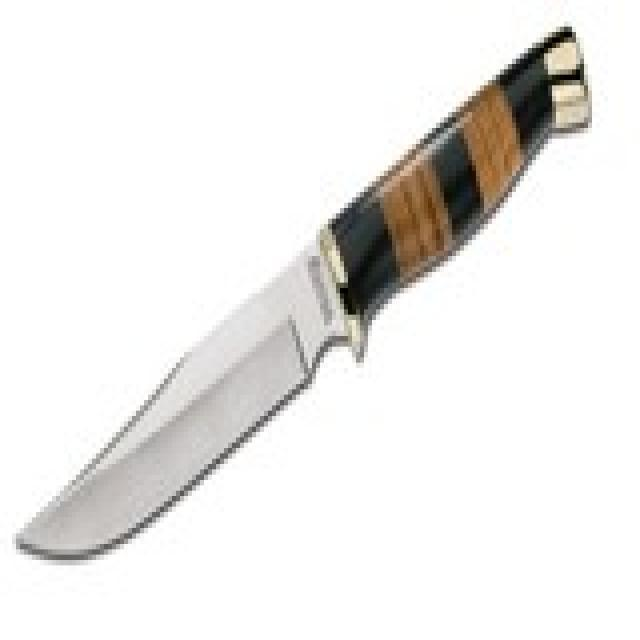Knife: (8, 18, 600, 572)
